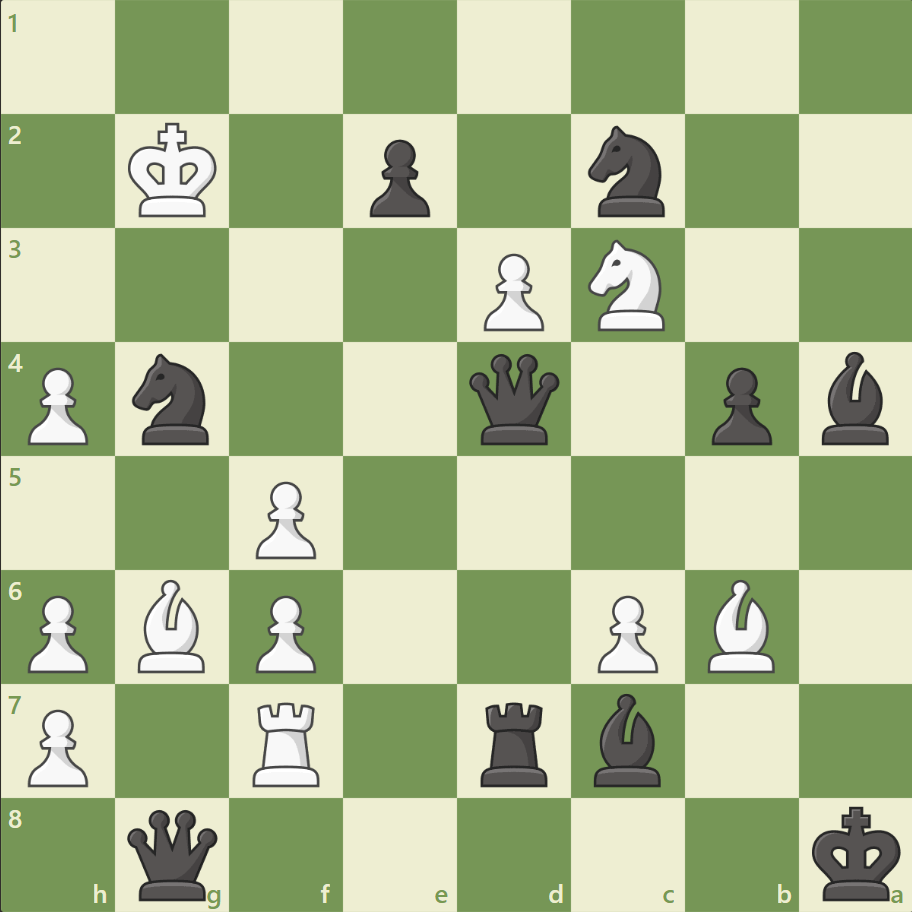B: (698, 574, 782, 676), (131, 574, 215, 676)
K: (124, 117, 224, 225)
N: (579, 234, 676, 337)
P: (20, 700, 95, 791), (247, 586, 322, 677), (20, 586, 95, 677), (247, 473, 322, 564), (20, 359, 95, 450), (474, 246, 549, 337), (588, 586, 662, 677)
R: (246, 693, 329, 790)
b: (585, 687, 669, 790), (812, 347, 896, 449)
k: (806, 798, 906, 906)
n: (124, 348, 222, 450), (579, 121, 676, 223)
p: (701, 359, 776, 450), (361, 132, 435, 223)
q: (464, 349, 563, 449), (124, 804, 223, 903)
r: (473, 693, 556, 790)
